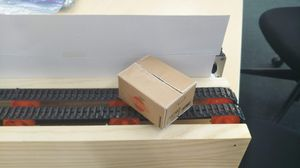box1: (116, 53, 196, 128)
